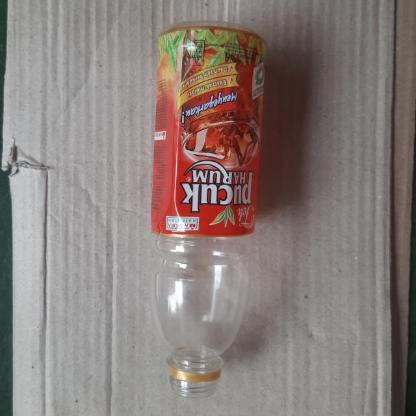Plastic Bottle: (149, 20, 271, 398)
